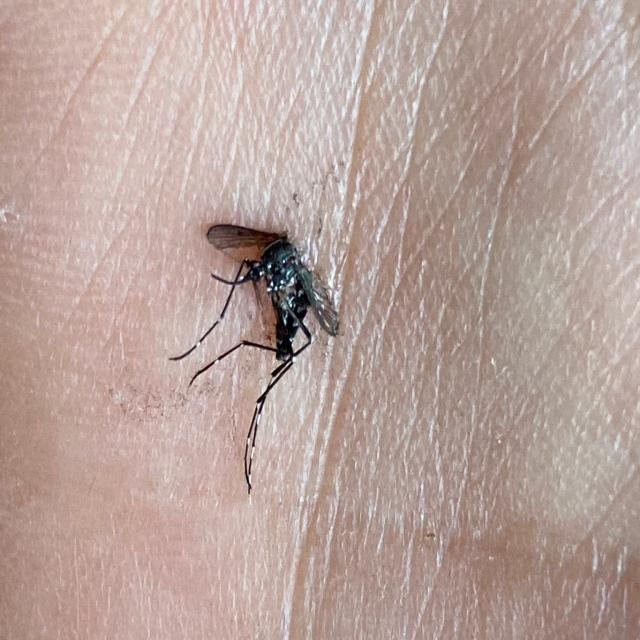albopictus: (164, 206, 340, 499)
